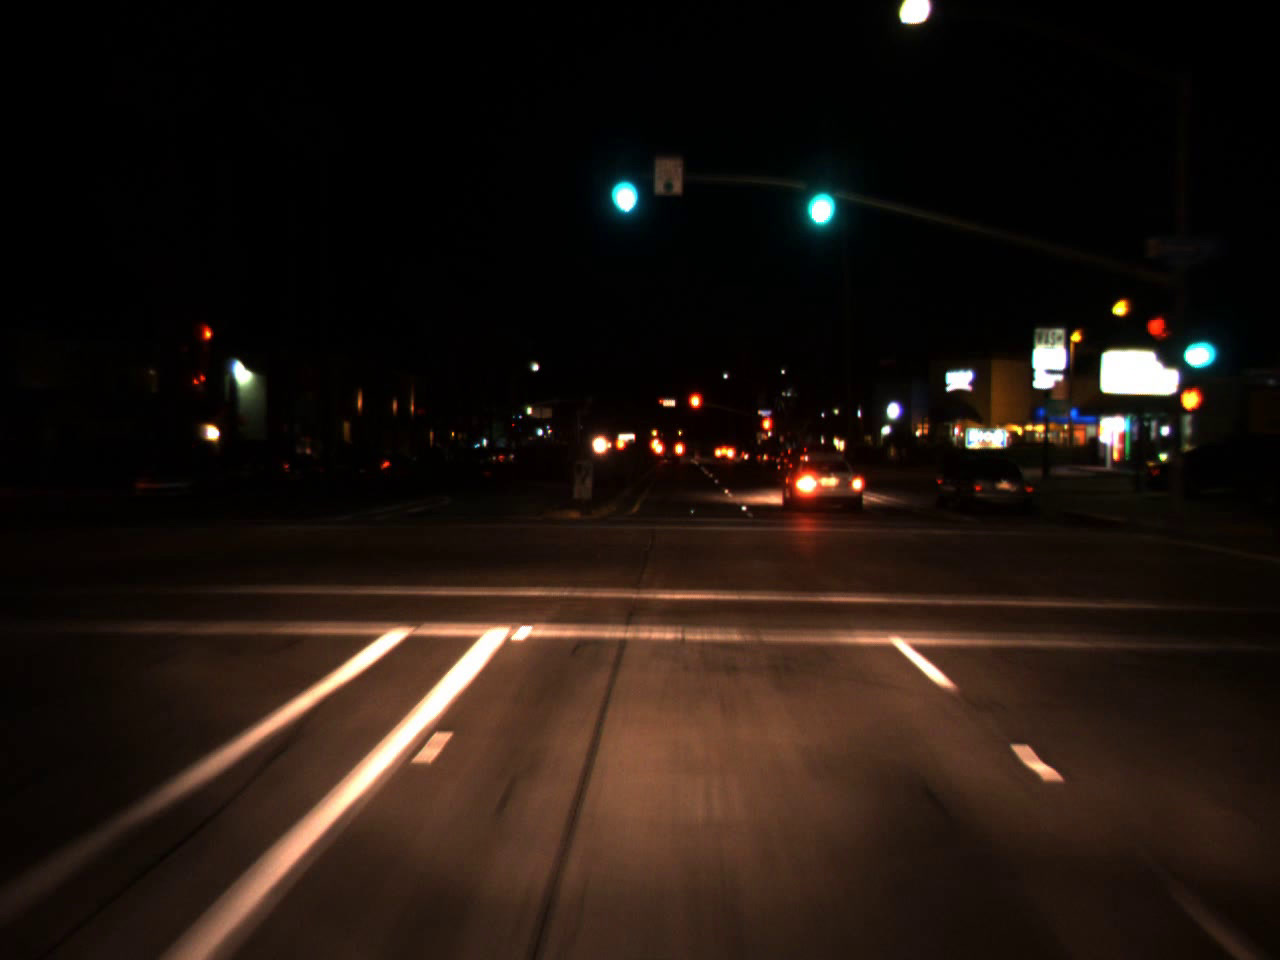go: (795, 151, 841, 238), (599, 144, 644, 222), (1173, 311, 1210, 374)
stop: (687, 390, 705, 427), (760, 415, 773, 447)
